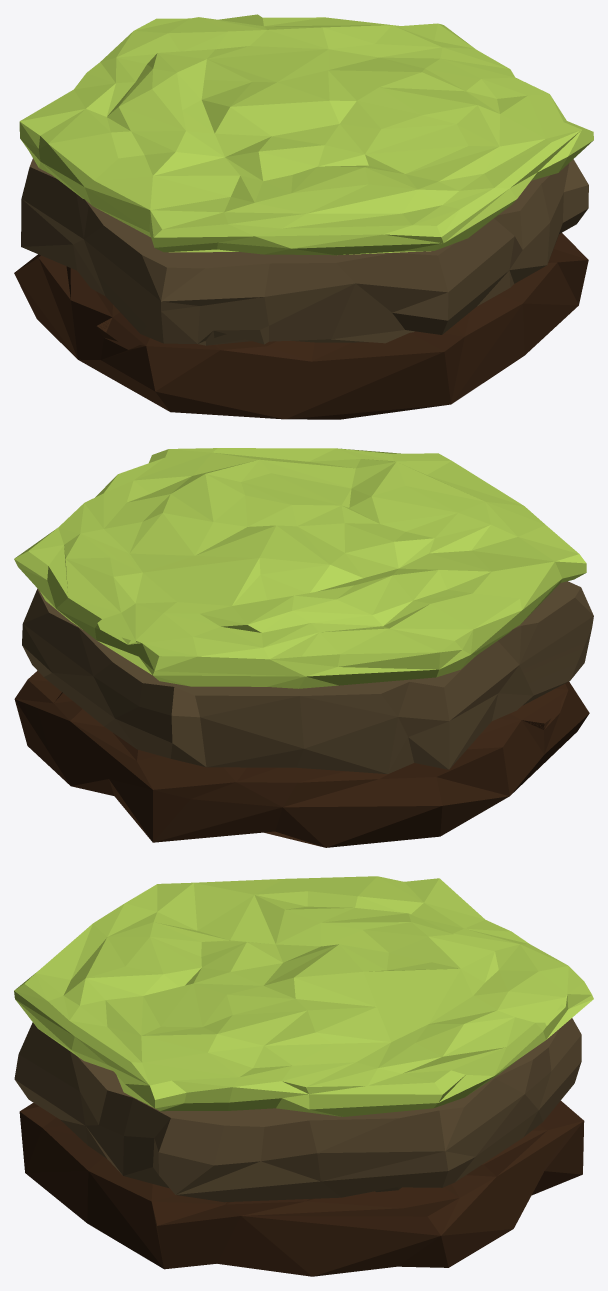
The model's file is grass2.fbx.
3 renders of one model, top to bottom at view 1: azimuth 30°, elevation 25°; view 2: azimuth 150°, elevation 25°; view 3: azimuth 270°, elevation 25°, orthographic.
Visible parts, largest first — view 1: grass2; view 2: grass2; view 3: grass2.
Boxes of the visible parts, x1,y1,x2,y2 form: grass2: (14,14,593,419); grass2: (14,448,593,847); grass2: (14,876,593,1276).
Bounding box in the file's own units: 971 × 445 × 1095.
